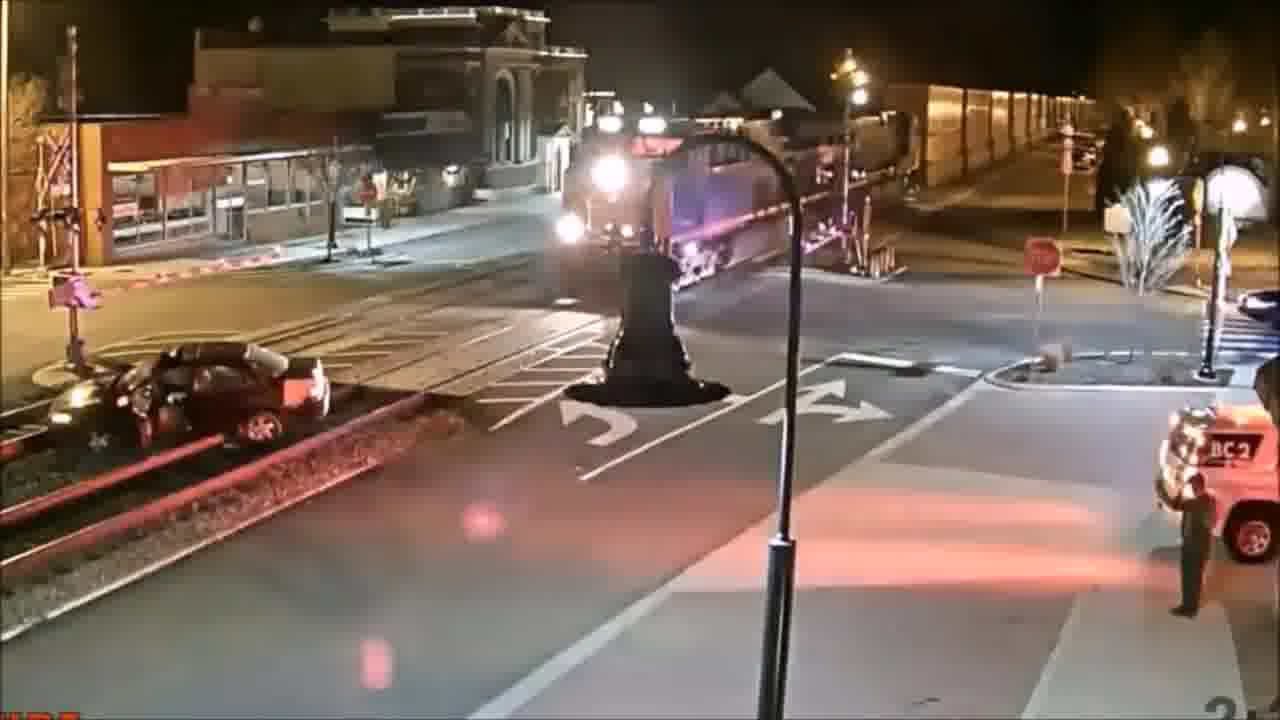crossing railway track: (31, 330, 348, 486)
